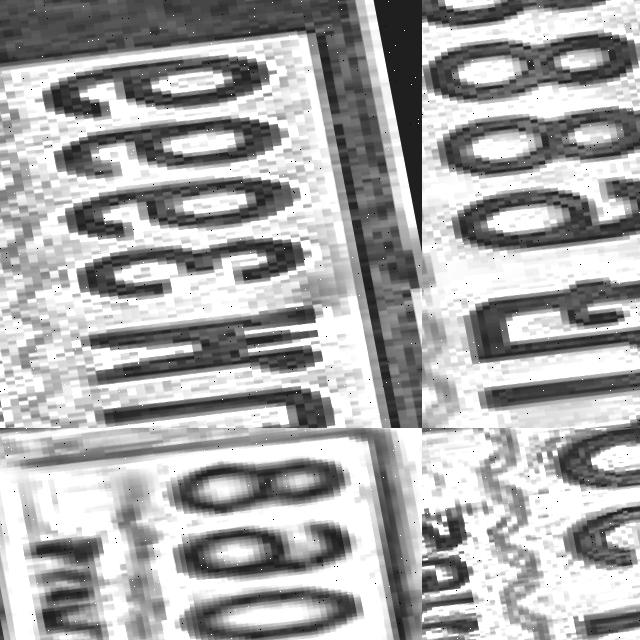license-plate: (0, 0, 422, 428), (422, 0, 640, 428), (0, 428, 422, 640), (422, 428, 640, 640)
